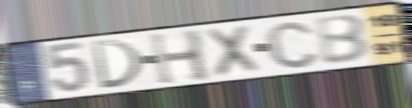5: (42, 39, 93, 96)
B: (312, 12, 372, 67)
C: (263, 18, 321, 70)
D: (89, 38, 146, 91)
H: (148, 28, 214, 87)
X: (203, 23, 262, 79)
